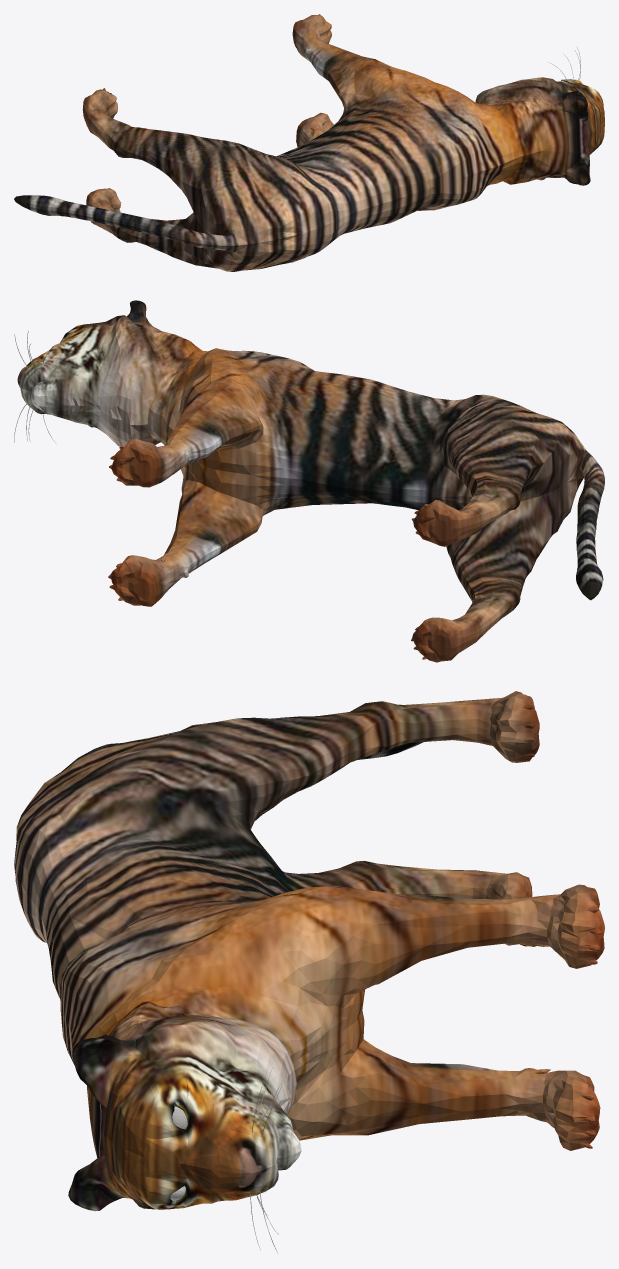
File: replace_dog_with_tiger.gltf
3 renders of one model, top to bottom at view 1: azimuth 30°, elevation 25°; view 2: azimuth 150°, elevation 25°; view 3: azimuth 270°, elevation 25°, orthographic. The views are drawn at different scales.
Visible parts, largest first — view 1: U2Q5834CV0L2J029TEKVE4T2O; view 2: U2Q5834CV0L2J029TEKVE4T2O; view 3: U2Q5834CV0L2J029TEKVE4T2O.
Part boxes in pixels (box(x1,y1,x2,y2)): U2Q5834CV0L2J029TEKVE4T2O: box(14, 14, 604, 271); U2Q5834CV0L2J029TEKVE4T2O: box(14, 300, 604, 662); U2Q5834CV0L2J029TEKVE4T2O: box(14, 691, 604, 1252).
Bounding box in the file's own units: 1.22 × 0.3091 × 0.6406.
Materials: 5 (5 with a texture image).
